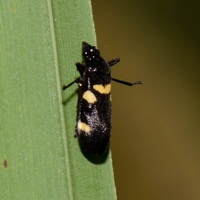insect: (63, 42, 141, 162)
